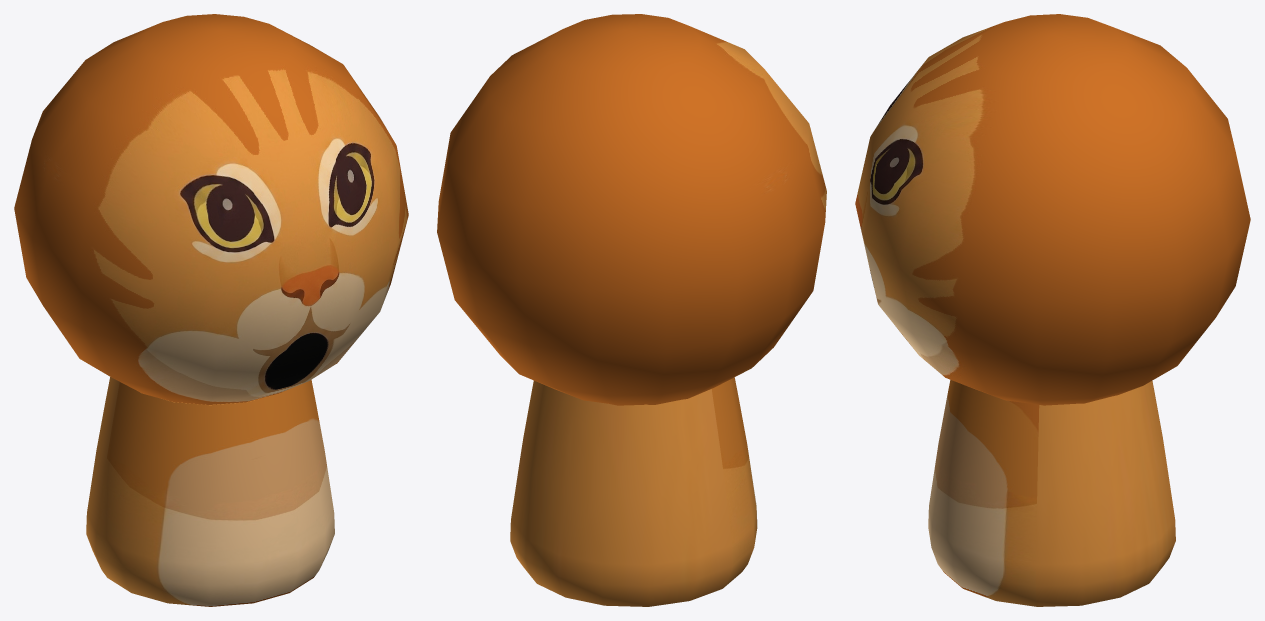
3 renders of one model, left to right at view 1: azimuth 30°, elevation 25°; view 2: azimuth 150°, elevation 25°; view 3: azimuth 270°, elevation 25°, orthographic.
Visible parts, largest first — view 1: 7; view 2: 7; view 3: 7.
Part boxes in pixels (x1,y1,x2,y2): 7: [14, 14, 408, 606]; 7: [437, 14, 826, 606]; 7: [855, 14, 1250, 606].
Size of the model in its own units: 65.59 by 96.83 by 65.65.
